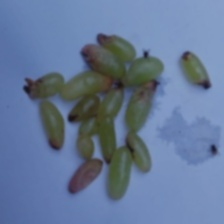grapes: (2, 49, 188, 192)
